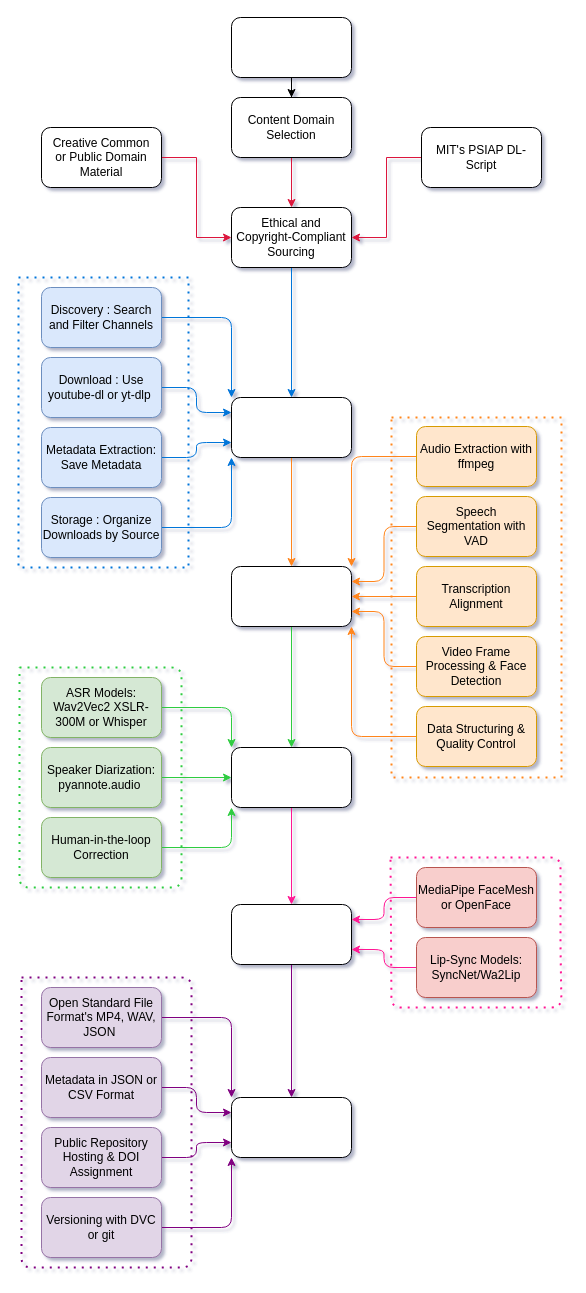
This 586x1293 diagram has some shape labels left out. The centre of each missing label's shape, as x and y in pixels:
"Annotation and Processing Pipeline" goes at point (291, 596).
"Content" goes at point (291, 47).
"Crawling and Download Pipeline" goes at point (291, 427).
"Dataset Formatting and FAIR Release" goes at point (291, 1127).
"Facial Landmark Tracking and Lip-Sync Aligment" goes at point (291, 934).
"Transcription and Speaker Segmentation" goes at point (291, 777).
